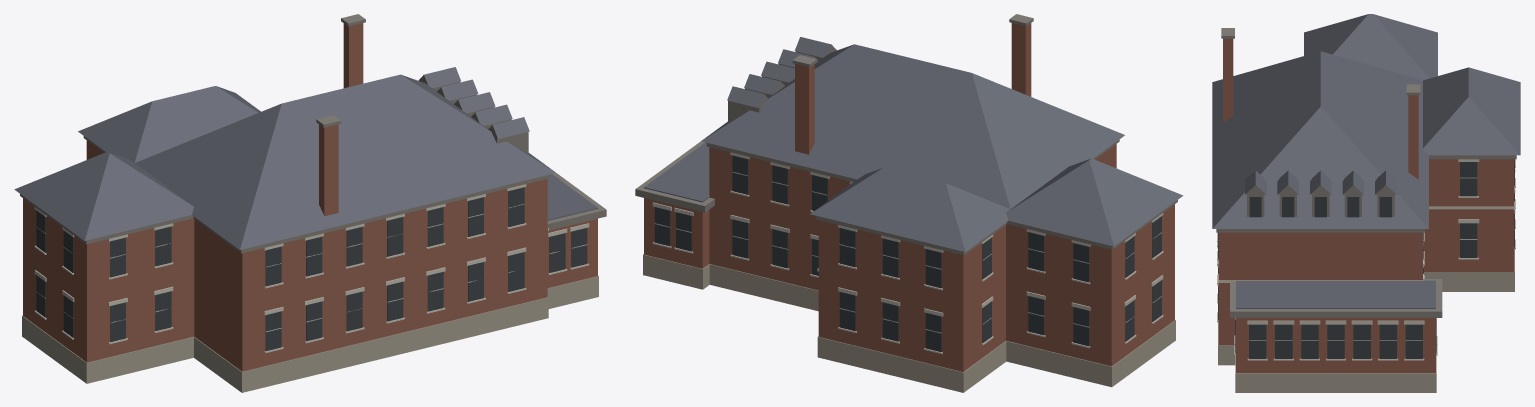
Rendered from house_1910_calumet__draft_1904.glb.
The picture shows the model from 3 angles, left to right: view 1: azimuth 30°, elevation 25°; view 2: azimuth 150°, elevation 25°; view 3: azimuth 270°, elevation 25°; orthographic projection. The views are drawn at different scales.
Parts seen in each view (by area): view 1: house_1910_calumet__draft_1904; view 2: house_1910_calumet__draft_1904; view 3: house_1910_calumet__draft_1904.
Part boxes in pixels (left/top/right/bottom): house_1910_calumet__draft_1904: left=14, top=14, right=606, bottom=392; house_1910_calumet__draft_1904: left=635, top=14, right=1183, bottom=392; house_1910_calumet__draft_1904: left=1212, top=14, right=1520, bottom=392.
Size of the model in its own units: 30.45 by 14.84 by 17.7.
